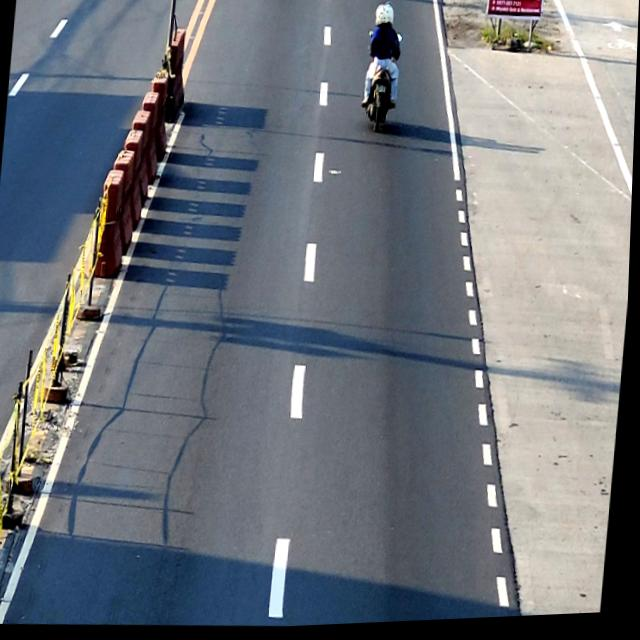License-Plate: (376, 87, 387, 97)
Motorcycle: (361, 31, 403, 137)
